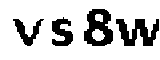8: (80, 6, 114, 48)
s: (49, 18, 74, 49)
v: (9, 16, 43, 48)
w: (114, 15, 160, 48)
